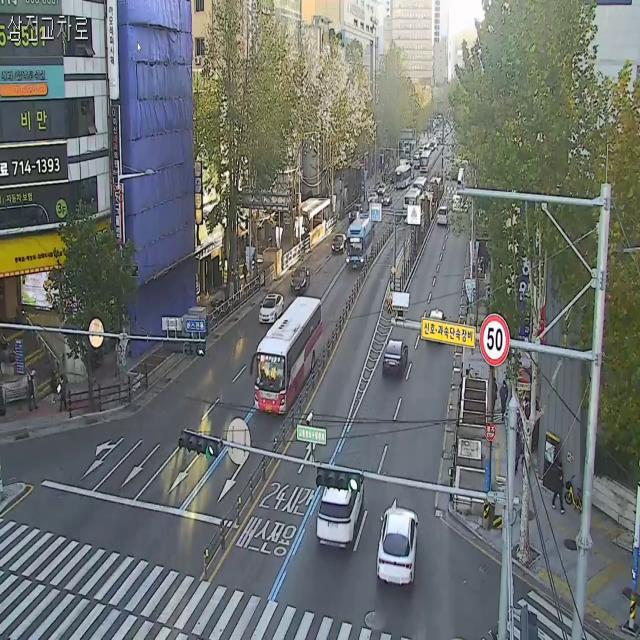car: (252, 293, 325, 418), (346, 209, 375, 271), (395, 163, 411, 190)
motorcycle: (317, 458, 363, 551), (377, 504, 418, 590), (382, 338, 408, 377), (259, 290, 284, 323), (290, 266, 310, 296), (331, 231, 346, 254), (437, 204, 448, 226)
